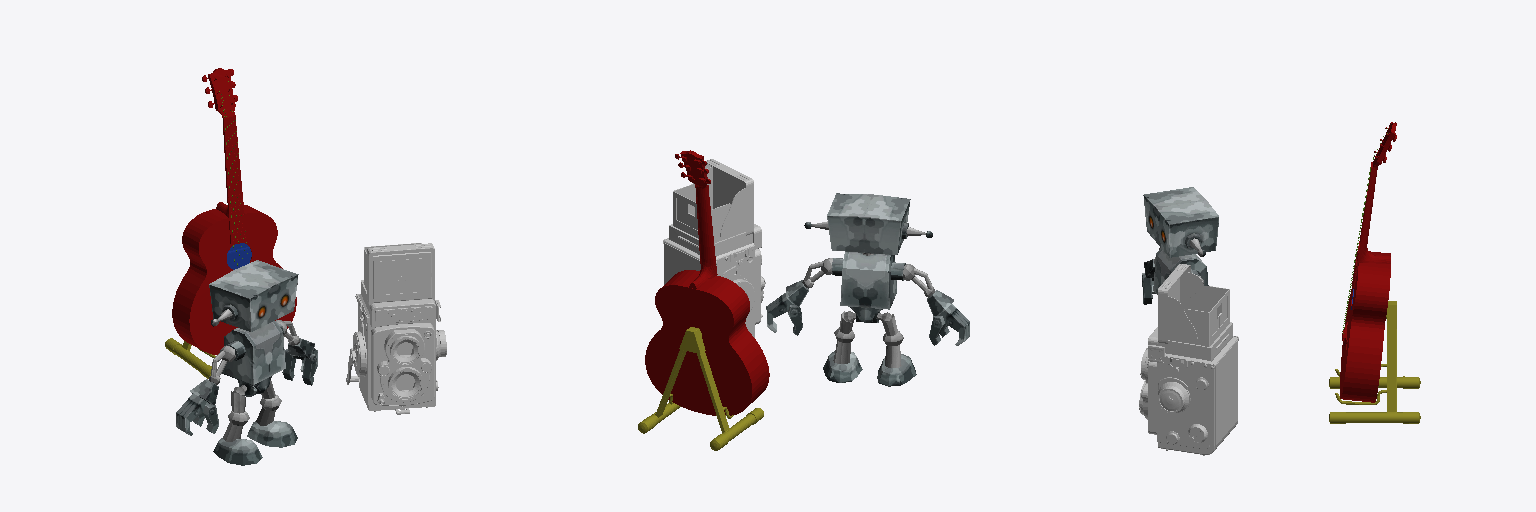
The picture shows the model from 3 angles: view 1: azimuth 30°, elevation 25°; view 2: azimuth 150°, elevation 25°; view 3: azimuth 270°, elevation 25°; orthographic projection.
Visible parts, largest first — view 1: Robot, Yashica.001, body1_low, fretboard_low, stand_low; view 2: Robot, body1_low, Yashica.001, stand_low, fretboard_low; view 3: Yashica.001, Robot, body1_low, stand_low, fretboard_low.
Boxes of the visible parts, x1,y1,x2,y2 form: Robot: [176, 260, 317, 465]; Yashica.001: [346, 243, 446, 414]; body1_low: [172, 205, 296, 354]; fretboard_low: [208, 68, 246, 244]; stand_low: [165, 338, 215, 378]; Robot: [766, 193, 969, 386]; body1_low: [645, 270, 769, 415]; Yashica.001: [663, 159, 765, 337]; stand_low: [638, 327, 763, 450]; fretboard_low: [680, 150, 716, 288]; Yashica.001: [1139, 264, 1238, 455]; Robot: [1142, 187, 1218, 304]; body1_low: [1340, 251, 1390, 402]; stand_low: [1329, 301, 1420, 423]; fretboard_low: [1353, 122, 1395, 287].
Bounding box in the file's own units: 20.24 × 19.79 × 17.84.
Materials: 6 (1 with a texture image).